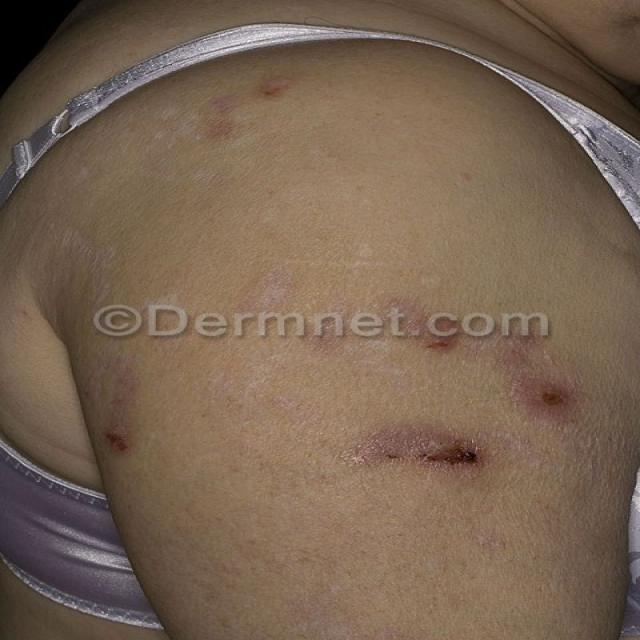Eczema: (89, 82, 573, 480)
